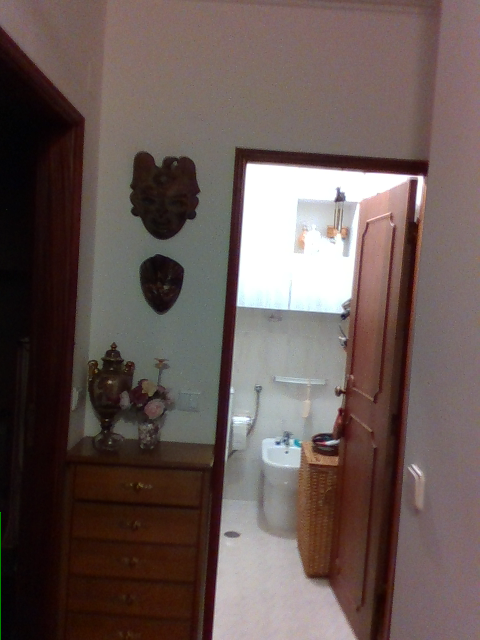open: (195, 146, 429, 639)
